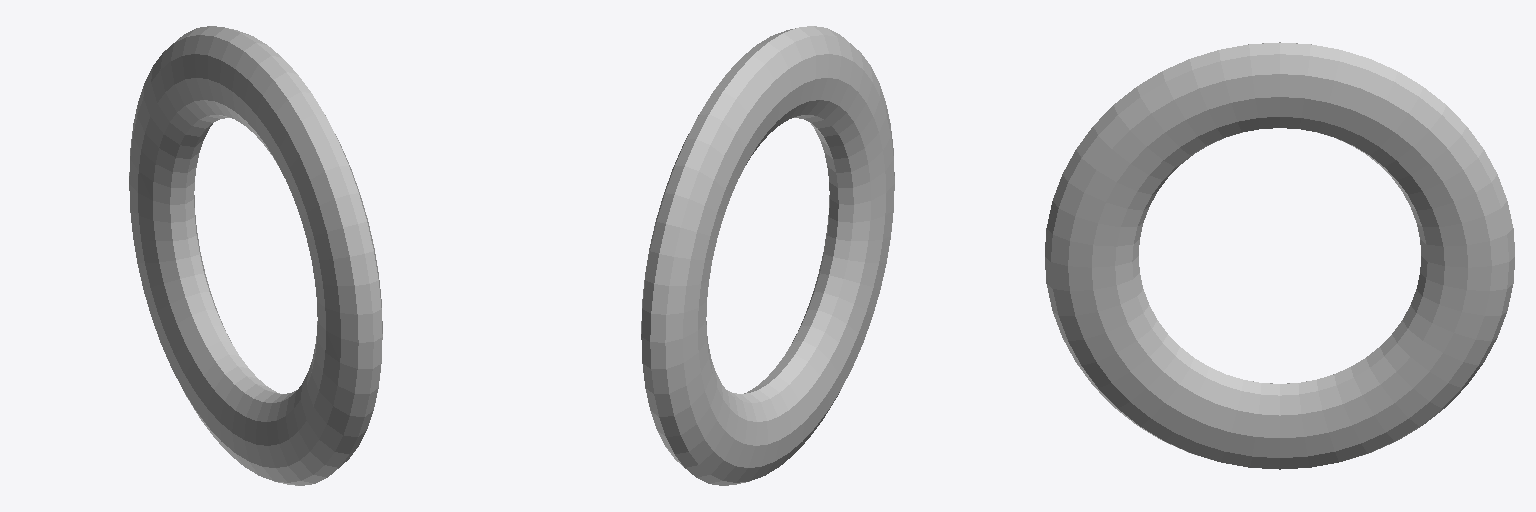
File: ring_2_5cm.obj
3 views of the same model, side by side, from view 1: azimuth 30°, elevation 25°; view 2: azimuth 150°, elevation 25°; view 3: azimuth 270°, elevation 25° (orthographic).
Visible parts, largest first — view 1: Tore; view 2: Tore; view 3: Tore.
Part boxes in pixels (x1,y1,x2,y2): Tore: (129, 26, 382, 485); Tore: (641, 26, 894, 485); Tore: (1045, 42, 1514, 469).
Size of the model in its own units: 0.01 by 0.085 by 0.085.